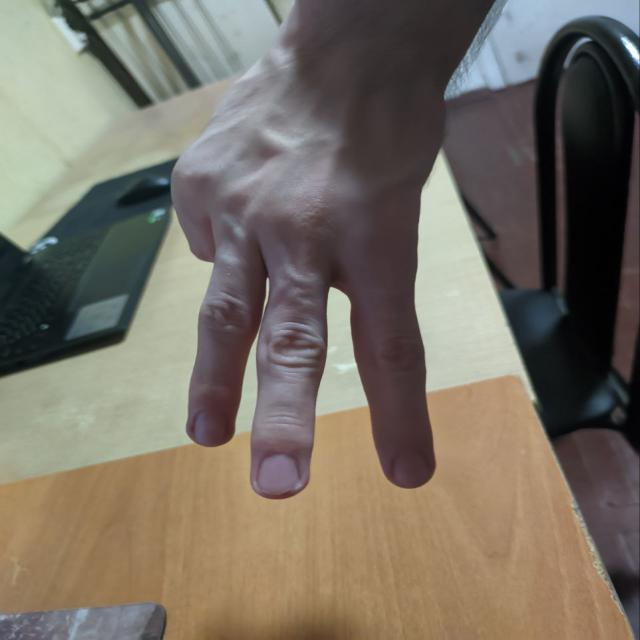m: (131, 84, 477, 514)
